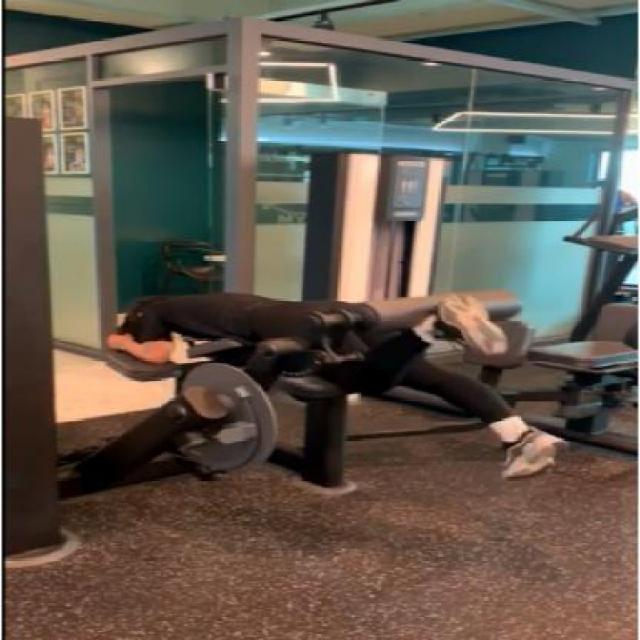reg curl machine: (0, 116, 577, 564)
